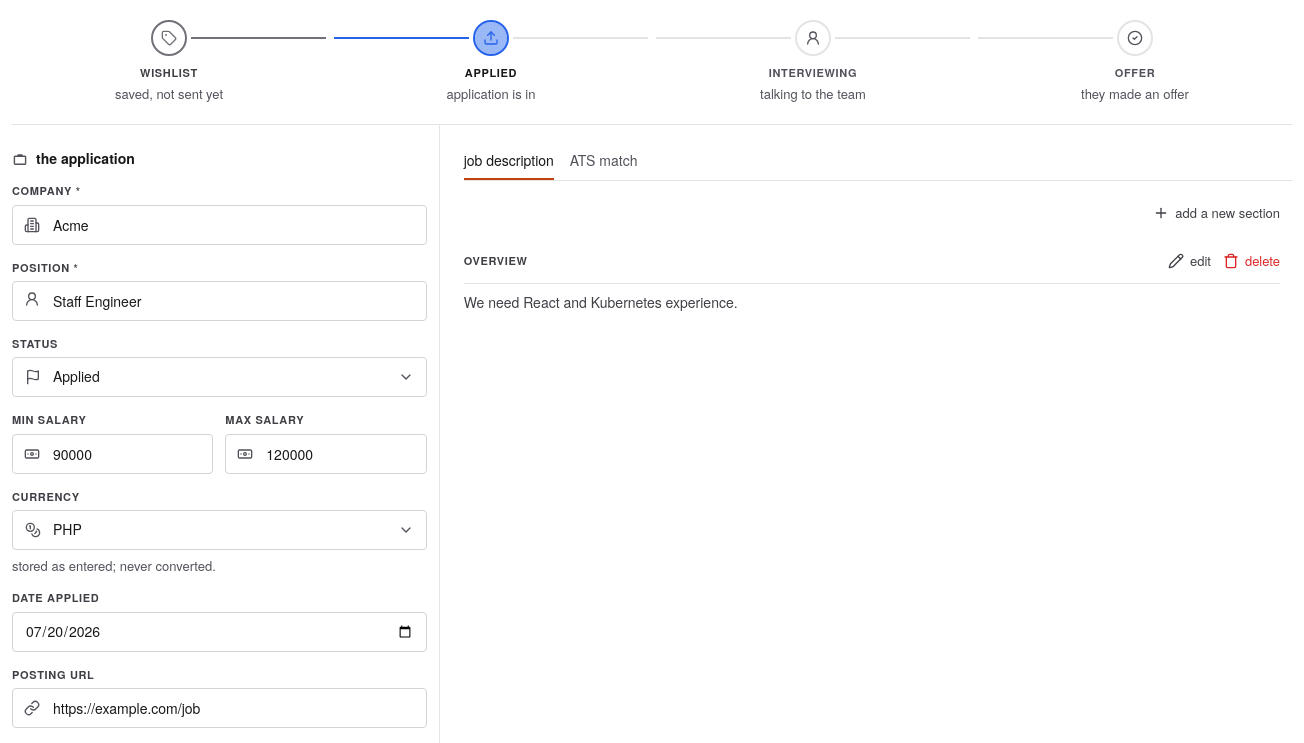
ApplicationRecordView › shows the form beside a tab for each of the other two surfaces
Check: the field labelled "company *" is shown, box [12,205,427,245]
Check: the field labelled "position *" is shown, box [12,281,427,321]
What coordinates should you click on to do the following:
click the tab "ATS match"
I would click on:
 (604, 164)
Its box is [570,148,638,180].
(page scrolled)
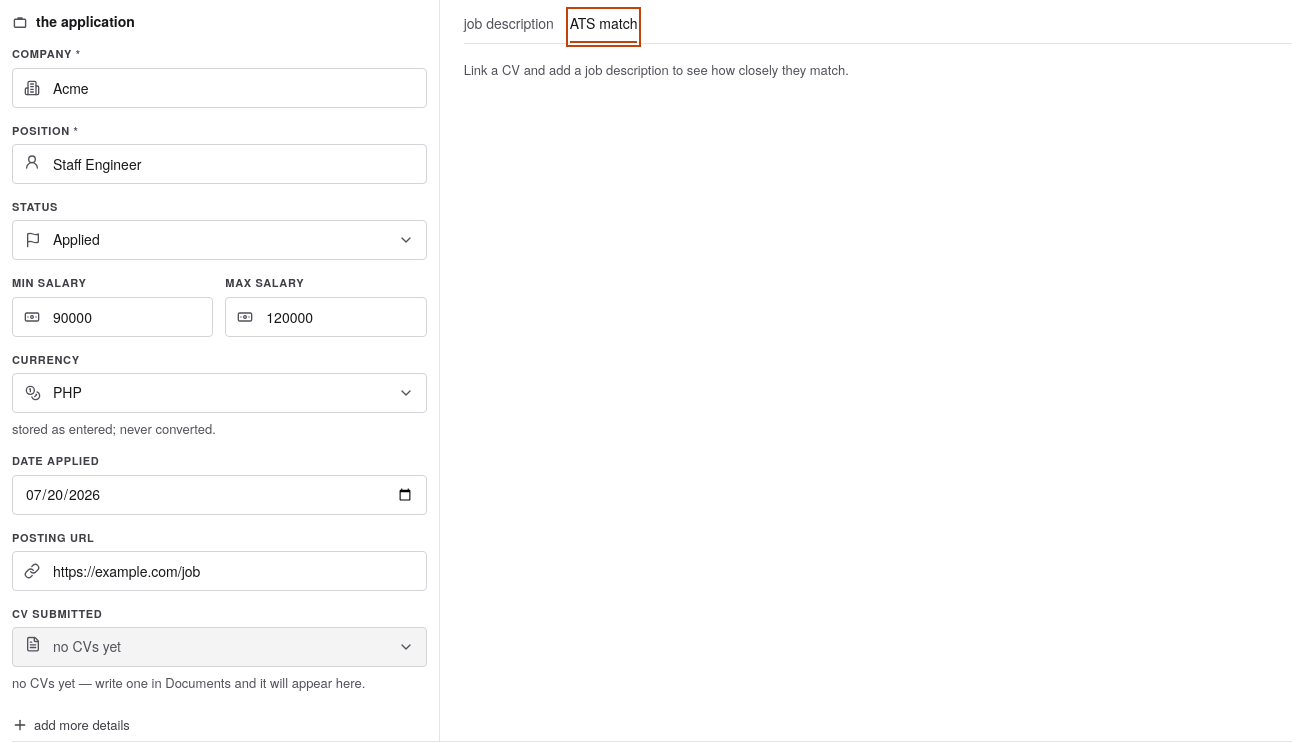
Check: the element named "ATS match" is shown, box [464,60,849,79]
